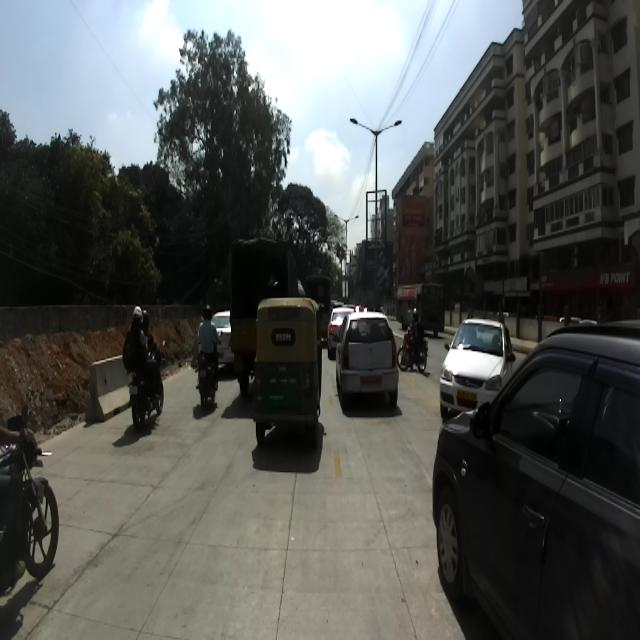auto ahead at: (256, 299, 323, 446)
car ahead at: (435, 327, 639, 640), (340, 312, 398, 412)
